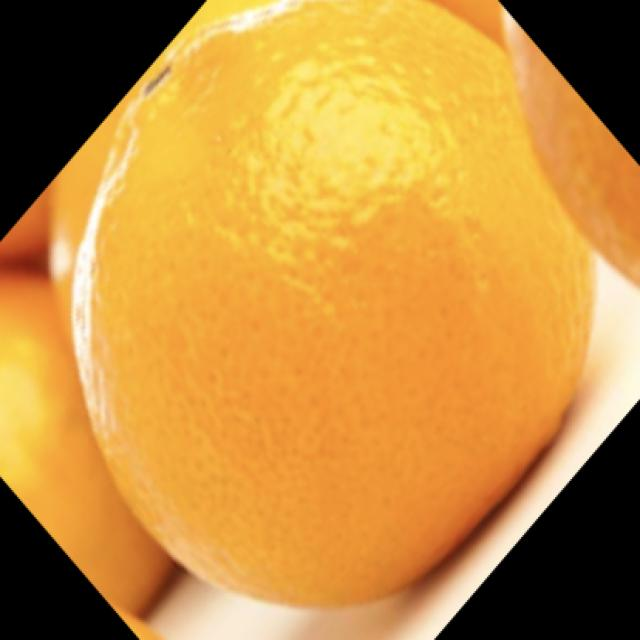orange: (83, 10, 623, 638)
